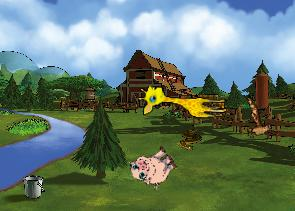eagle: (228, 94, 287, 150)
giraffe: (137, 84, 228, 118)
pig: (125, 139, 181, 194)
